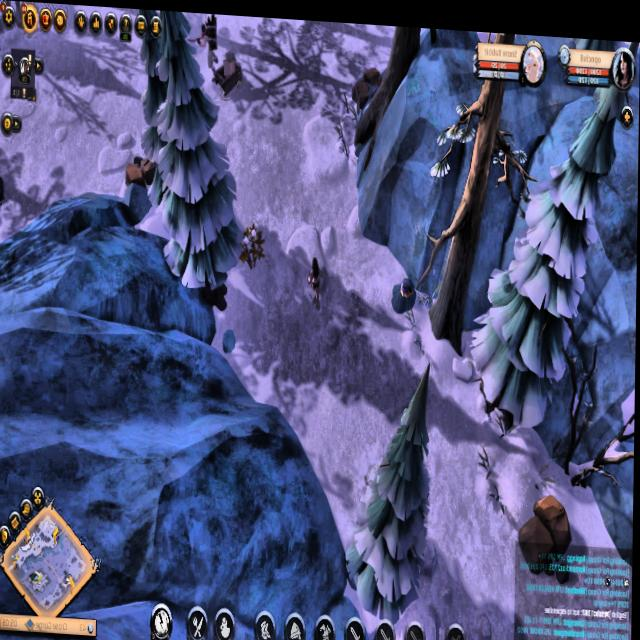copper_ore: (384, 266, 424, 314)
cotton: (236, 221, 269, 265)
limestone: (515, 482, 581, 554), (119, 151, 160, 192)
